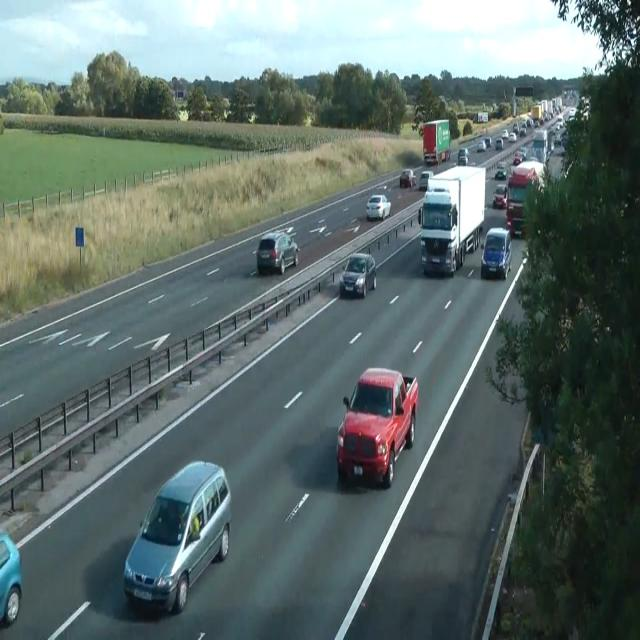bus: (0, 529, 22, 627), (255, 231, 299, 275), (339, 252, 376, 298), (365, 194, 391, 220), (418, 170, 434, 191), (493, 184, 507, 208), (399, 169, 416, 188), (513, 146, 527, 165), (457, 147, 469, 165), (495, 162, 507, 180), (552, 140, 565, 156), (476, 140, 486, 152), (495, 138, 503, 150), (484, 136, 492, 148), (508, 132, 516, 142), (502, 129, 508, 139)
jeep: (123, 459, 232, 614), (336, 366, 418, 488), (481, 226, 512, 279)
minibus: (418, 165, 486, 276), (506, 160, 546, 237), (421, 119, 451, 165), (532, 127, 554, 165), (473, 111, 488, 123)
